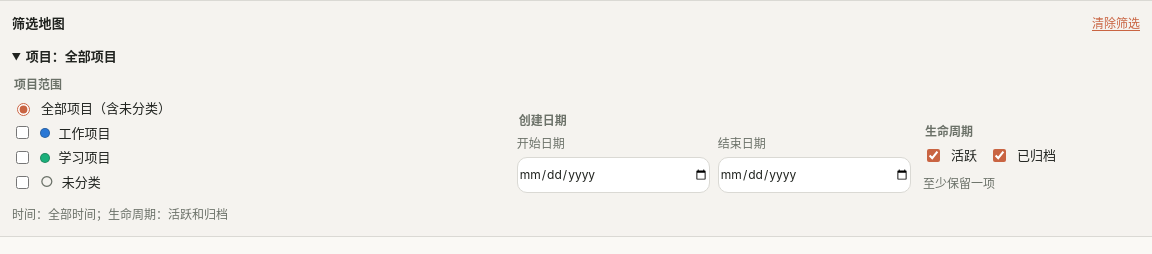
ResearchMapFilters › 项目从全部到单选、组合，移除最后一个后回到全部
Click the checkbox labelled "工作项目" at point(22, 133), box top-left (16, 126), bottom-right (29, 140)
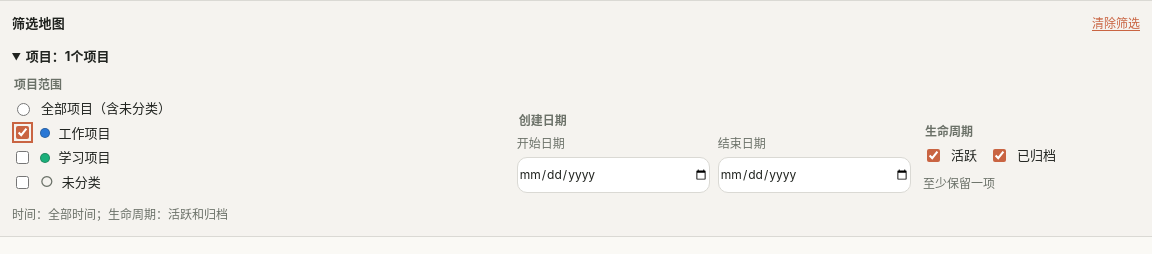
Expected: the checkbox labelled "工作项目" is checked, top-left (16, 126), bottom-right (29, 140)
Expected: the radio button labelled "全部项目（含未分类）" is not checked, top-left (17, 103), bottom-right (30, 116)
Click the checkbox labelled "学习项目" at point(22, 158), box top-left (16, 151), bottom-right (29, 164)
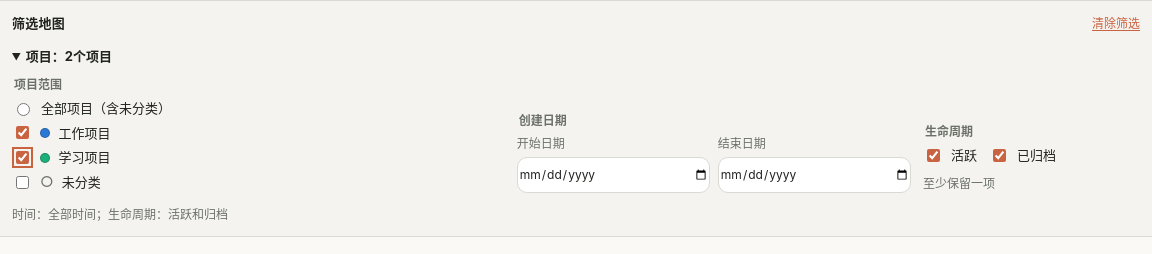
Expected: the checkbox labelled "学习项目" is checked
Expected: the heading "项目：2个项目" is shown, top-left (26, 48), bottom-right (112, 64)
Click the checkbox labelled "学习项目" at point(22, 158), box top-left (16, 151), bottom-right (29, 164)
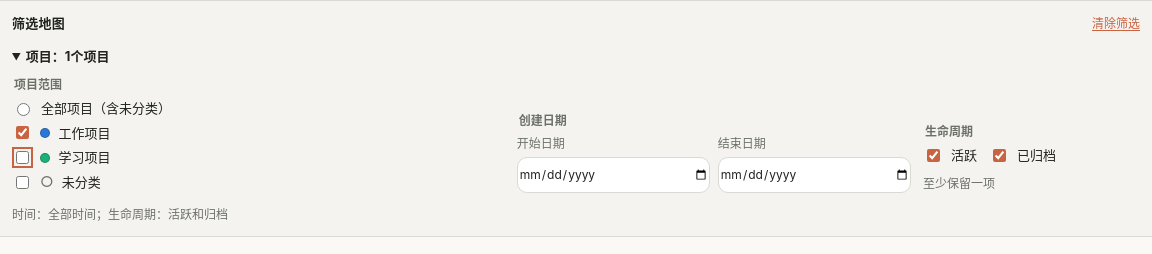
Click the checkbox labelled "工作项目" at point(22, 133), box top-left (16, 126), bottom-right (29, 140)
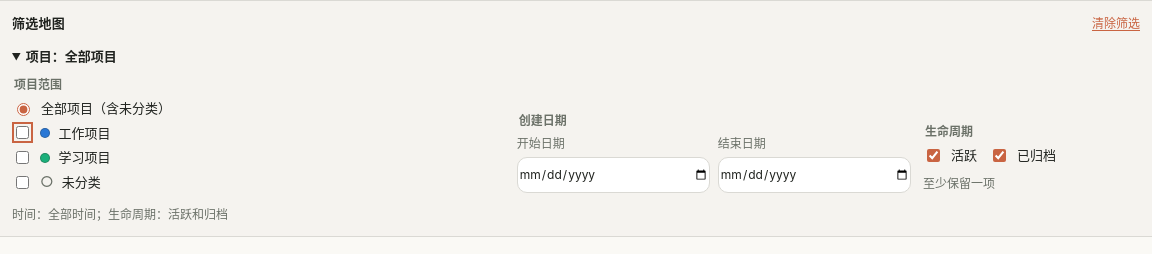
Expected: the radio button labelled "全部项目（含未分类）" is checked, top-left (17, 103), bottom-right (30, 116)
